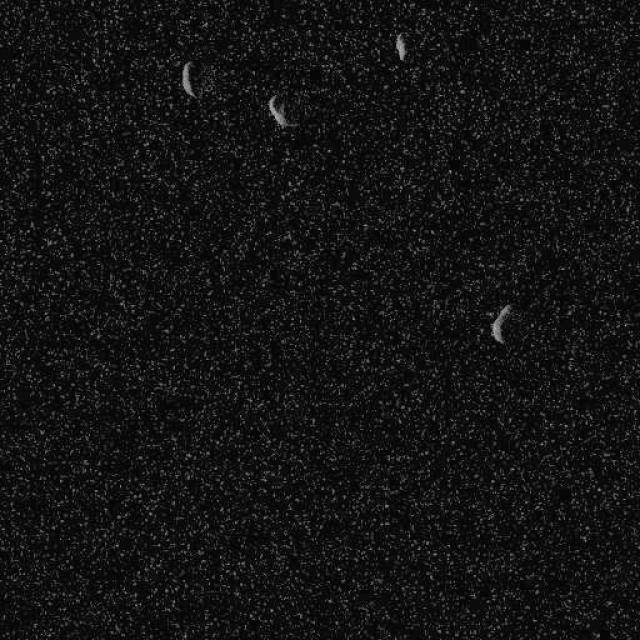D2: (265, 92, 297, 128), (488, 301, 512, 345), (180, 59, 198, 99), (393, 31, 408, 60)
